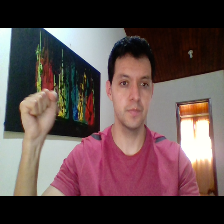9D: (11, 86, 67, 138)
